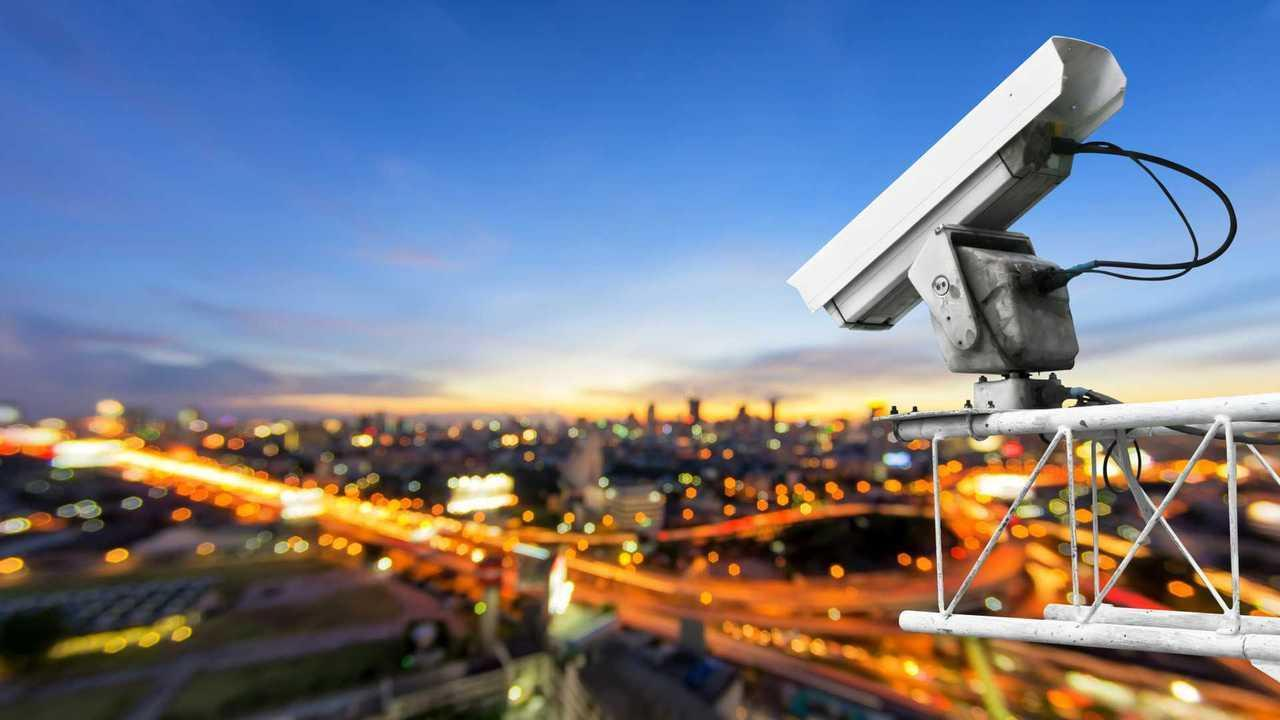Monitor: (758, 18, 1160, 398)
